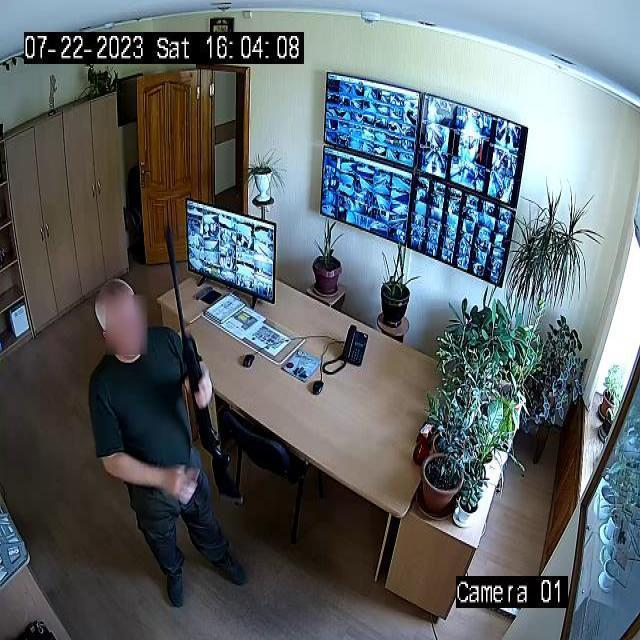pistol: (162, 228, 245, 506)
